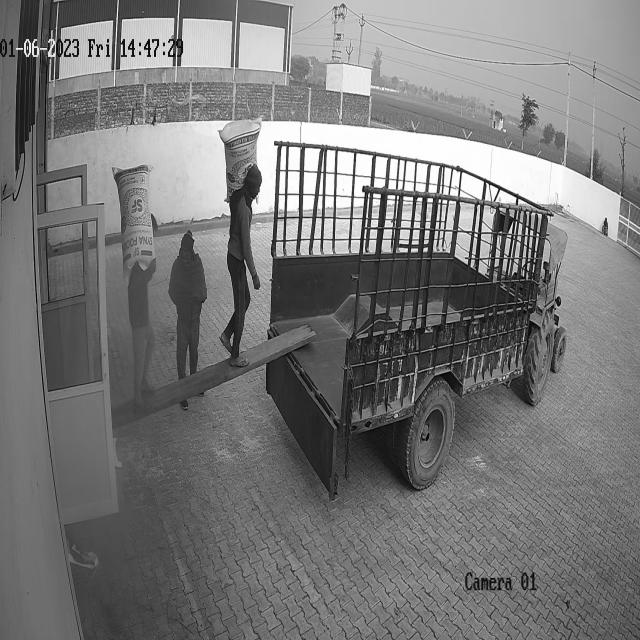sack: (110, 163, 154, 284), (218, 115, 262, 202)
